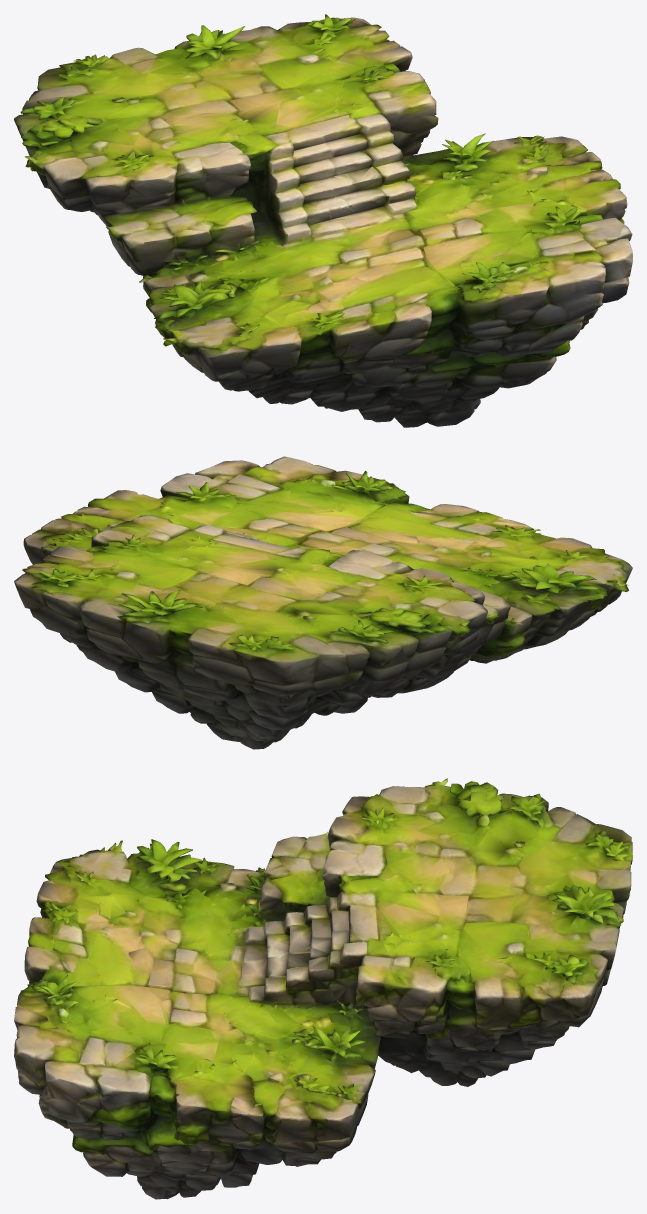
The model's file is Island_Tiered.fbx.
The picture shows the model from 3 angles, top to bottom: view 1: azimuth 30°, elevation 25°; view 2: azimuth 150°, elevation 25°; view 3: azimuth 270°, elevation 25°; orthographic projection. The views are drawn at different scales.
Visible parts, largest first — view 1: Island_Tiered; view 2: Island_Tiered; view 3: Island_Tiered.
Part boxes in pixels (x1=…): Island_Tiered: x1=14, y1=14, x2=632, y2=427; Island_Tiered: x1=14, y1=456, x2=632, y2=749; Island_Tiered: x1=14, y1=778, x2=632, y2=1199.
Size of the model in its own units: 1050 by 500 by 1000.
Materials: 1 (1 with a texture image).
